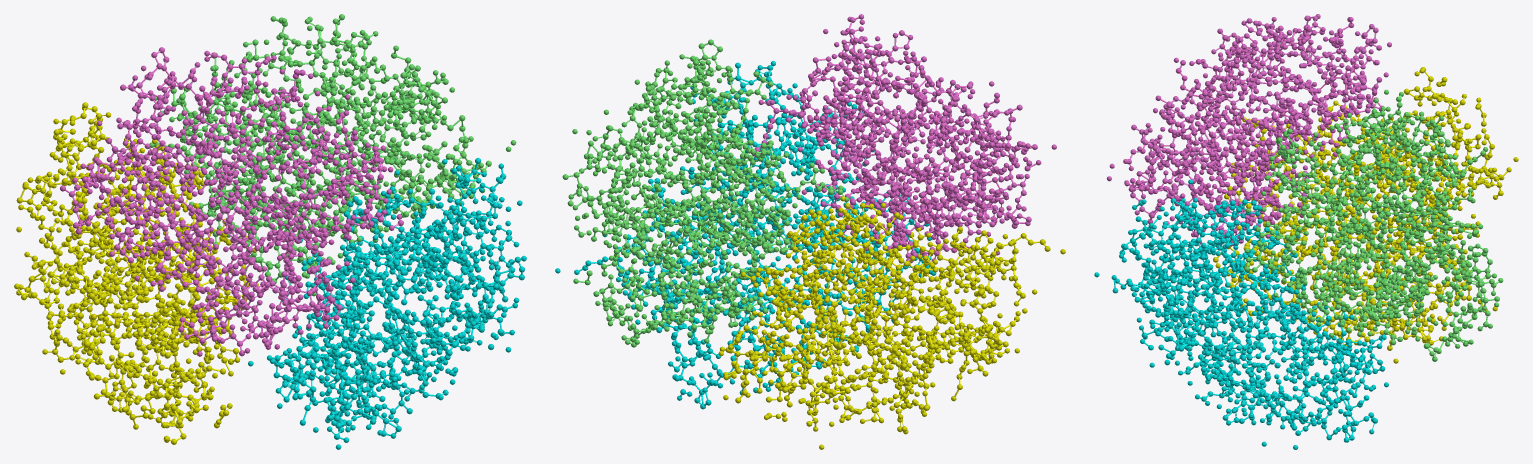
Rendered from 4hhb__ball_and_stick__chain.glb.
The picture shows the model from 3 angles, left to right: view 1: azimuth 30°, elevation 25°; view 2: azimuth 150°, elevation 25°; view 3: azimuth 270°, elevation 25°; orthographic projection. The views are drawn at different scales.
Parts seen in each view (by area): view 1: Renderer Node; view 2: Renderer Node; view 3: Renderer Node.
Boxes of the visible parts, left/top/right/bottom form: Renderer Node: left=14, top=14, right=526, bottom=449; Renderer Node: left=555, top=14, right=1065, bottom=449; Renderer Node: left=1094, top=14, right=1518, bottom=449.
Size of the model in its own units: 71.05 by 57.91 by 61.55.
